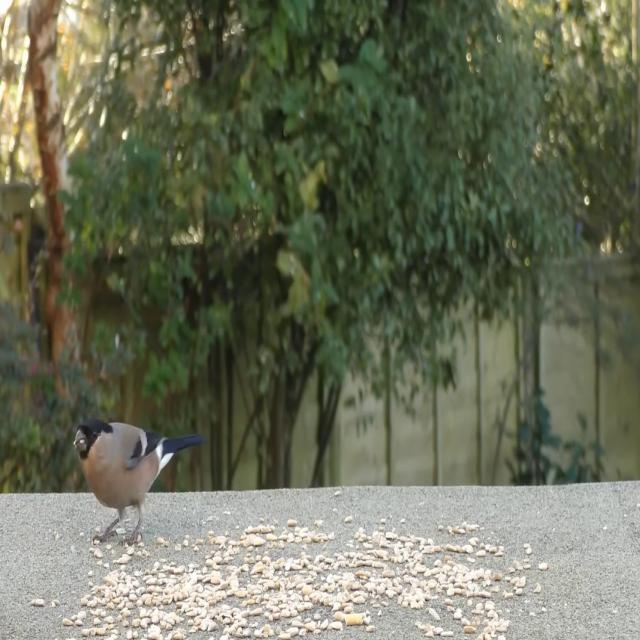beak: (73, 429, 88, 452)
bird: (72, 412, 208, 548)
